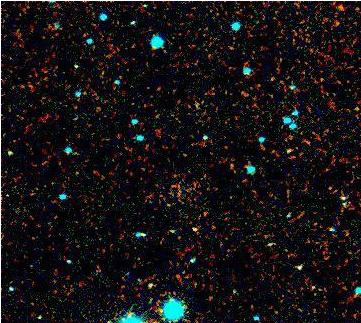star: (181, 214, 211, 244)
